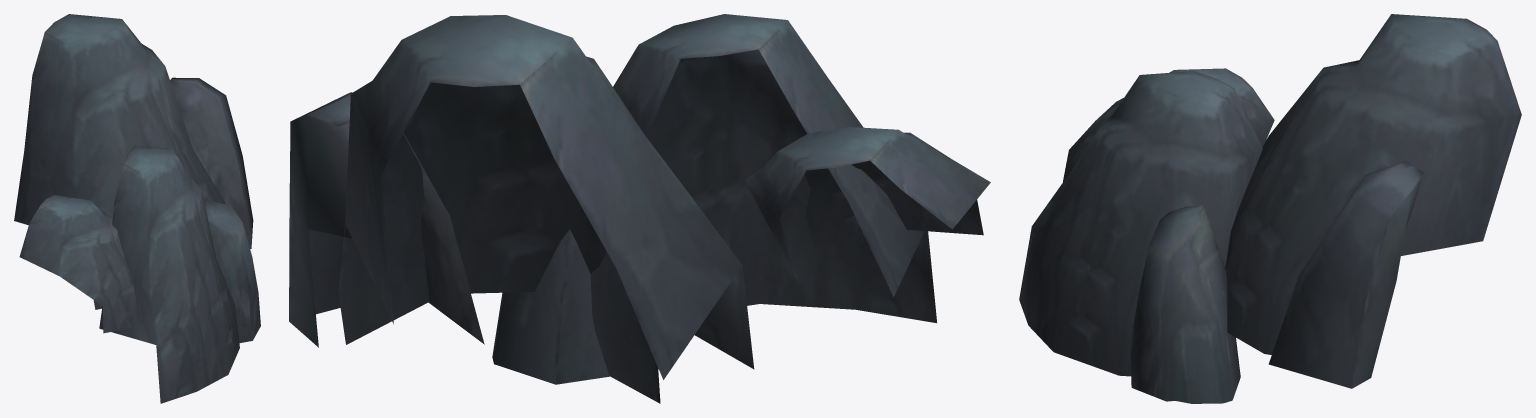
Rendered from Area_06_44.fbx.
3 renders of one model, left to right at view 1: azimuth 30°, elevation 25°; view 2: azimuth 150°, elevation 25°; view 3: azimuth 270°, elevation 25°, orthographic. The views are drawn at different scales.
Parts seen in each view (by area): view 1: Area_06_44; view 2: Area_06_44; view 3: Area_06_44.
Part boxes in pixels (<box>): Area_06_44: <box>14,14,260,403</box>; Area_06_44: <box>289,14,990,403</box>; Area_06_44: <box>1019,14,1521,403</box>.
Bounding box in the file's own units: 3515 × 2832 × 3930.
